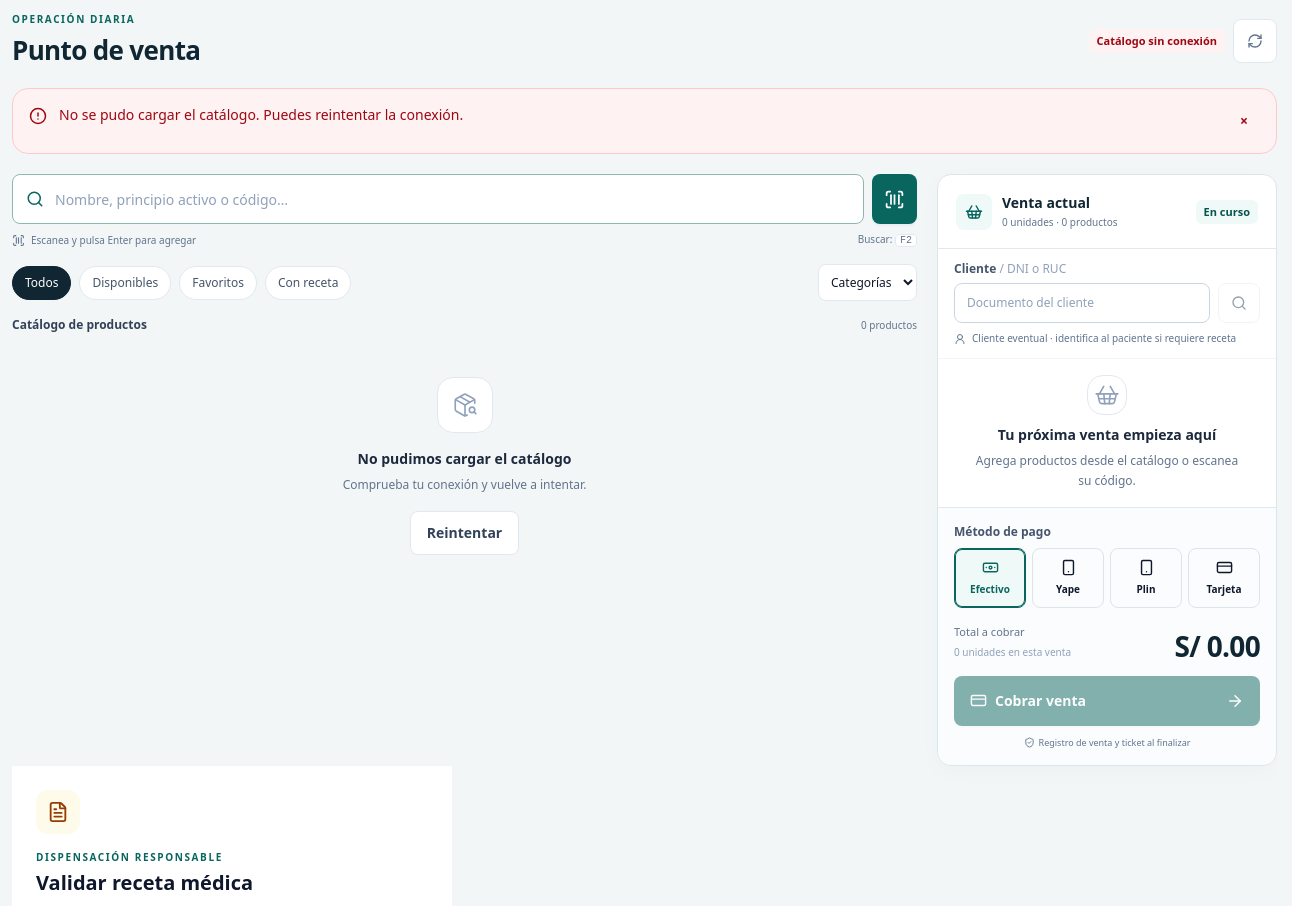
Test: POS contract and interactions › exposes catalog errors with a retry action
Click the button "Reintentar" at coordinates (464, 533), box [410,511,519,555]
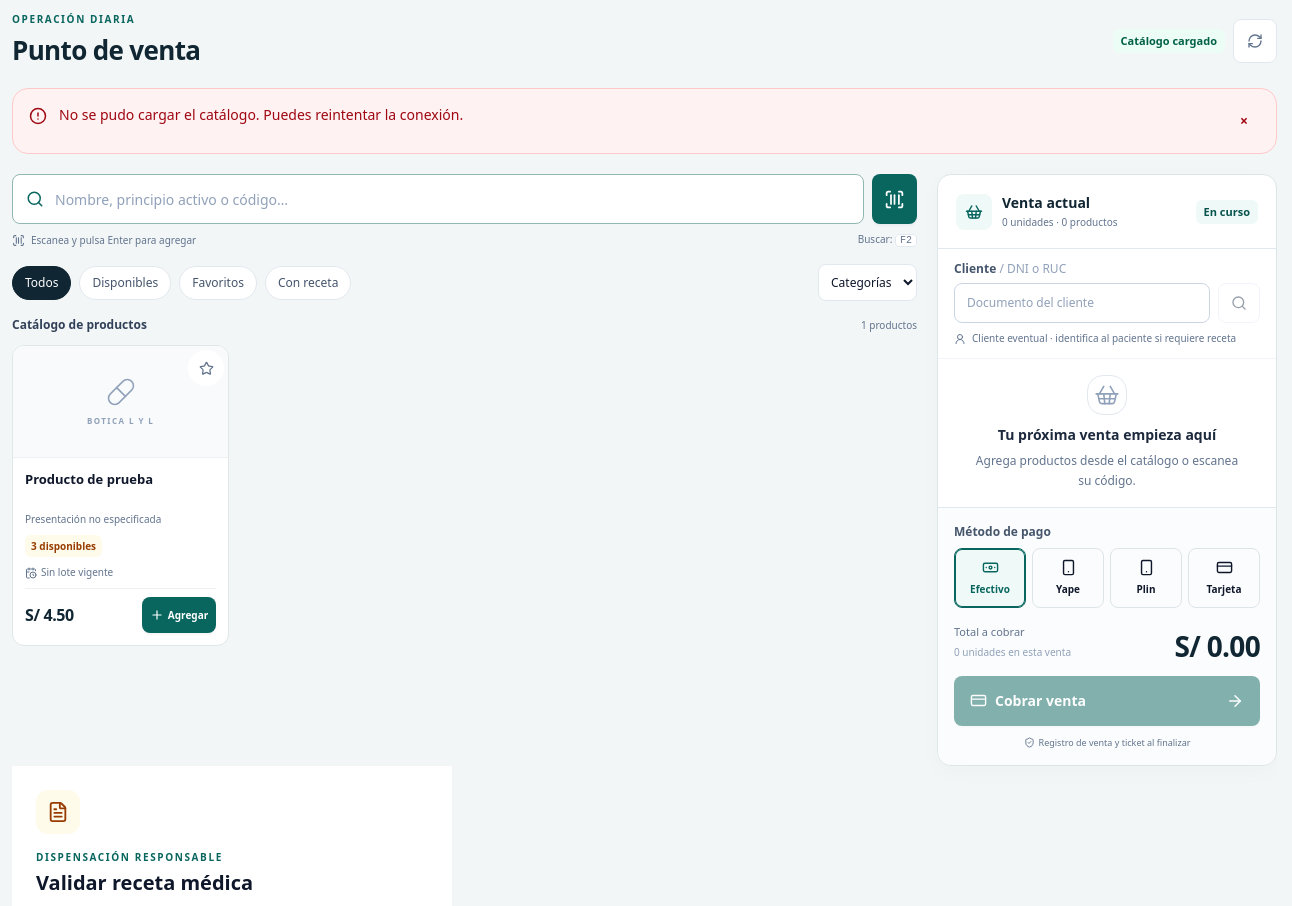
Expected: the text "Producto de prueba" is shown, [25,470,153,488]
